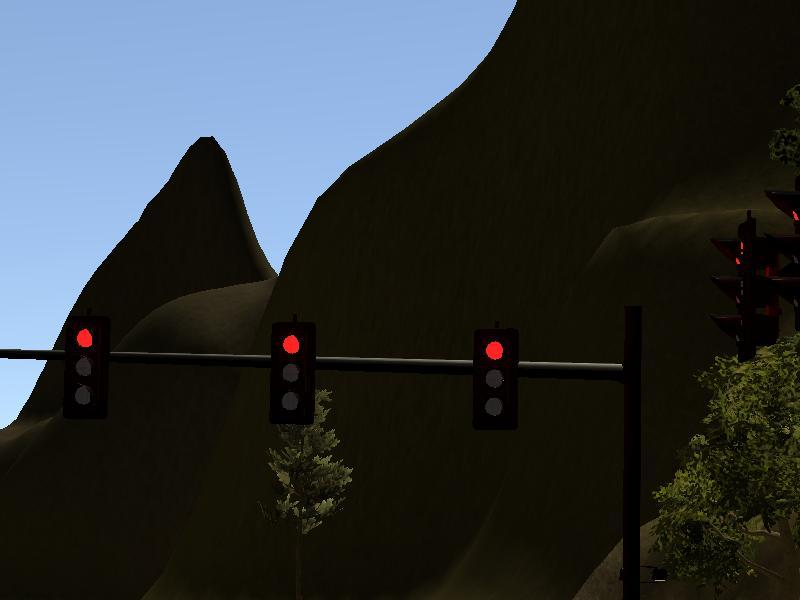Red: (476, 330, 519, 431), (274, 326, 315, 423), (66, 320, 105, 411)
